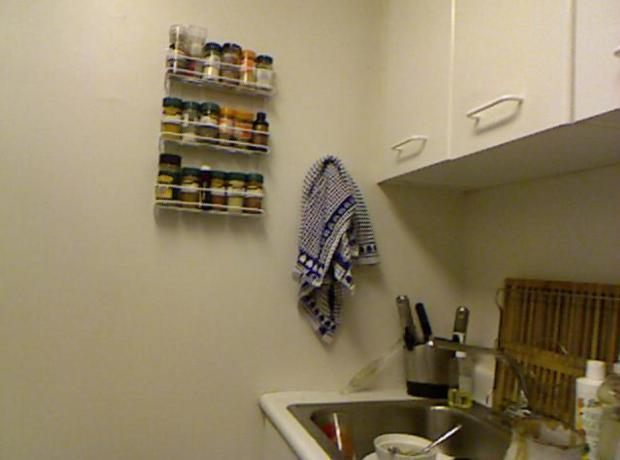Lavaplatos: (281, 328, 548, 456)
